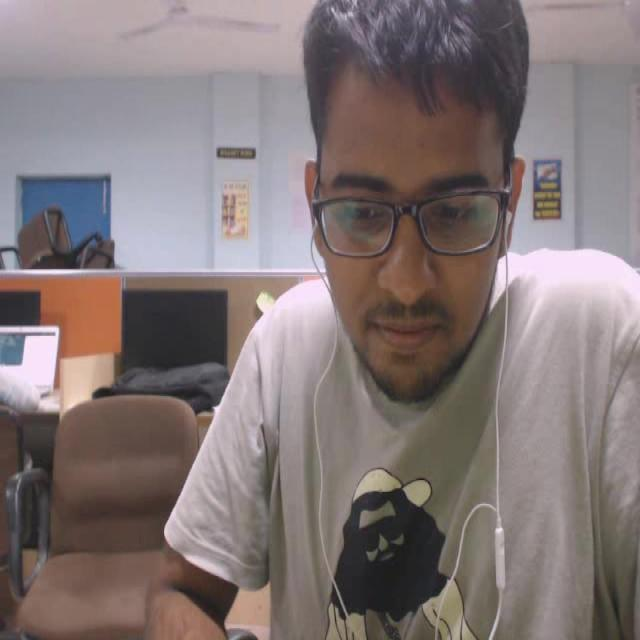Bored: (279, 0, 553, 431)
